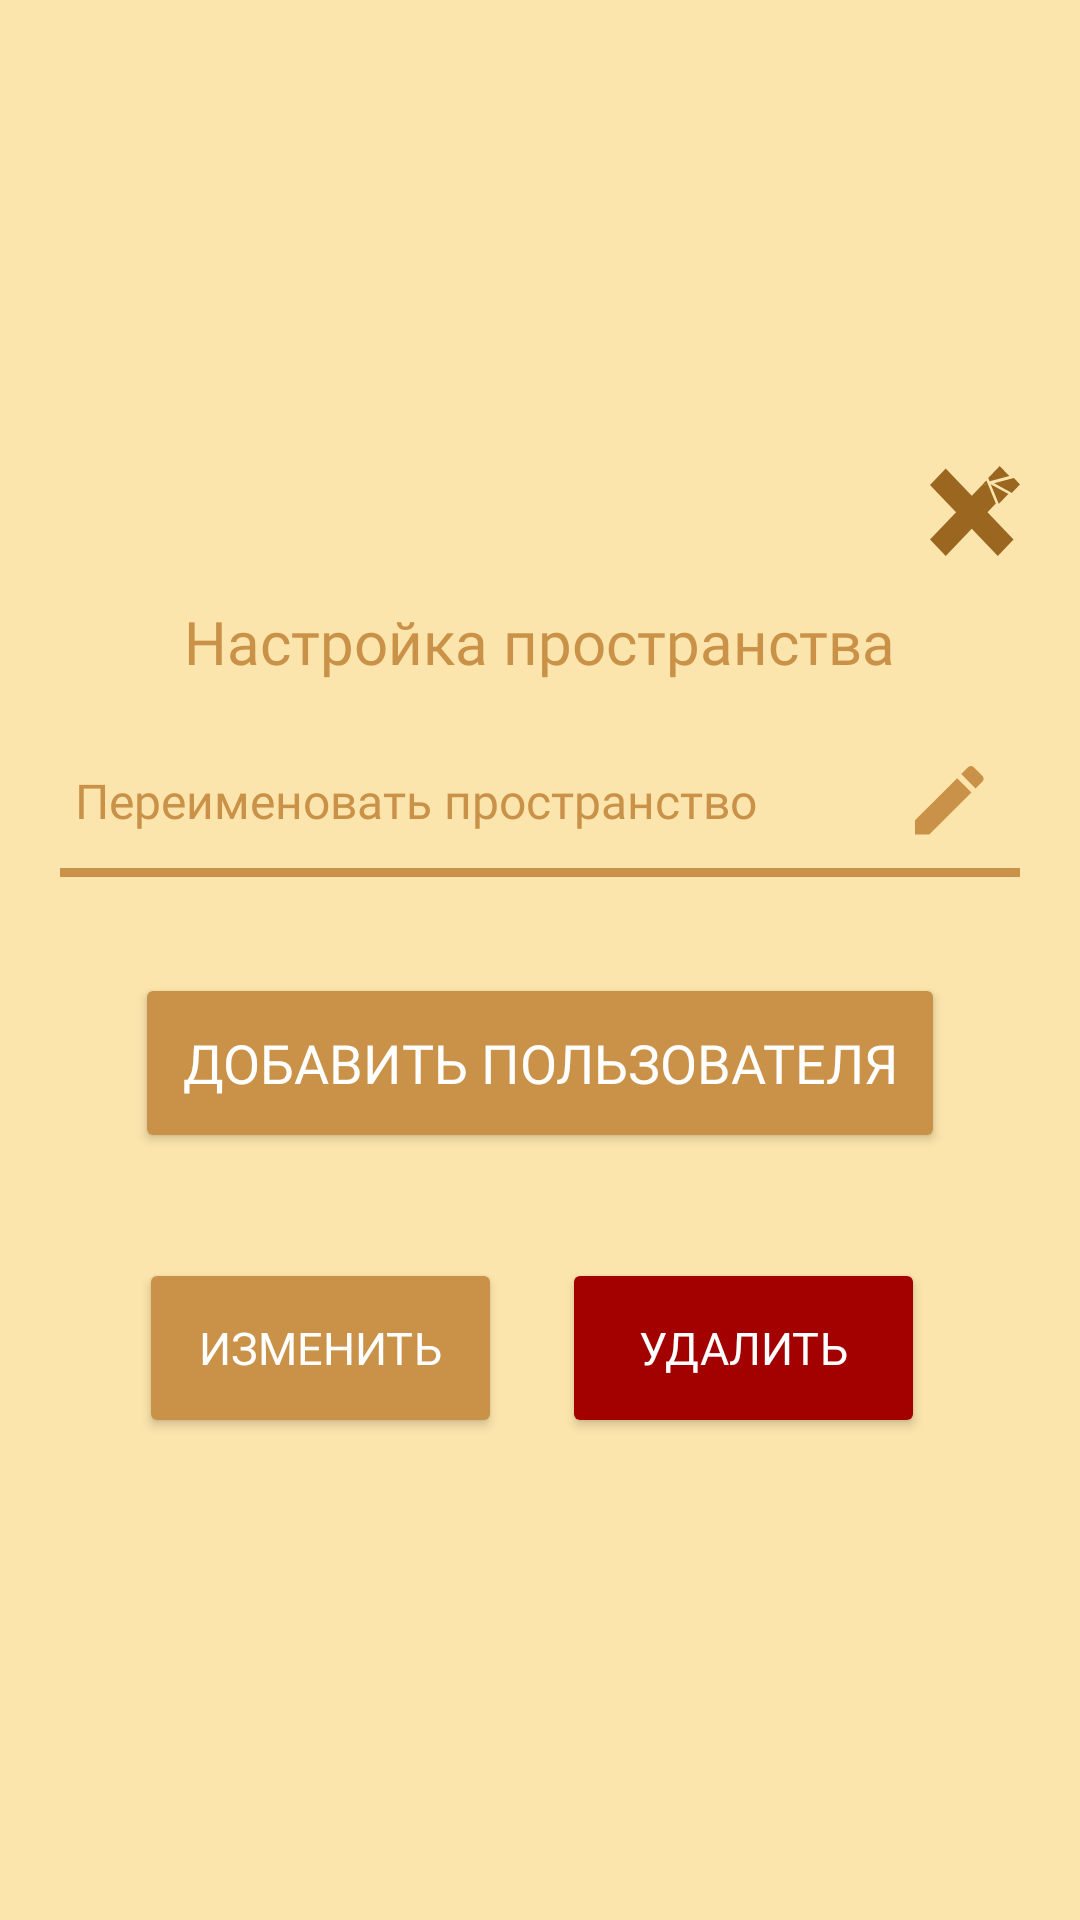

Icons on this 1080 × 1920 Android screen, each with the point to tap as [x,y]:
close: [975,511]
